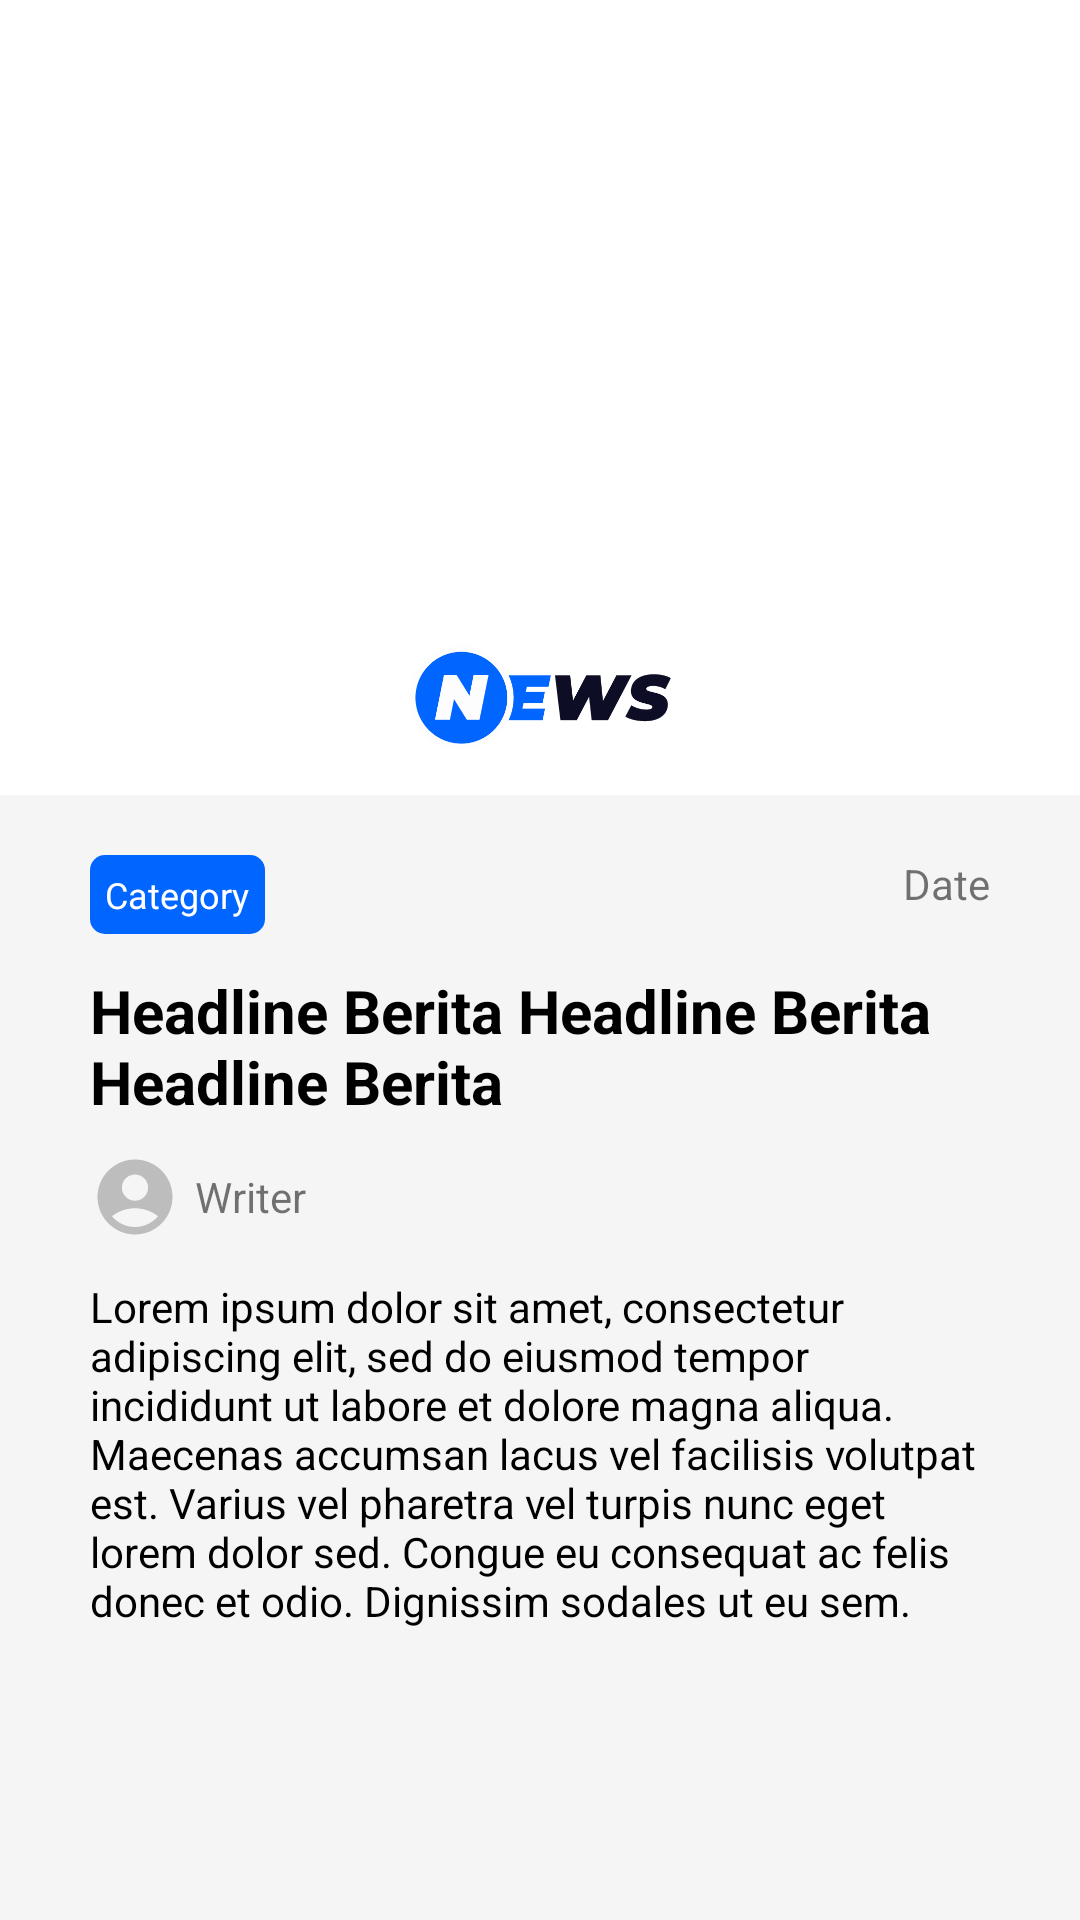

Screen size 1080x1920. Icon name, then its box in pixels as (x1, y1, x2, y2):
account: (97, 1159, 173, 1235)
